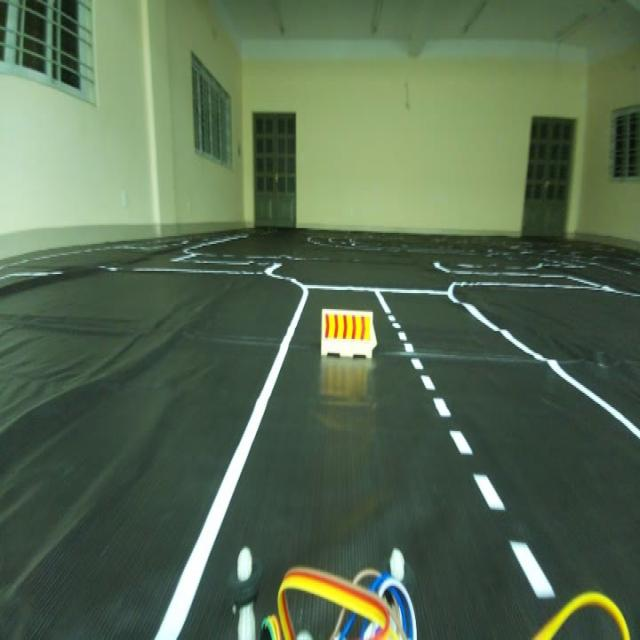roadblock: (317, 300, 381, 368)
